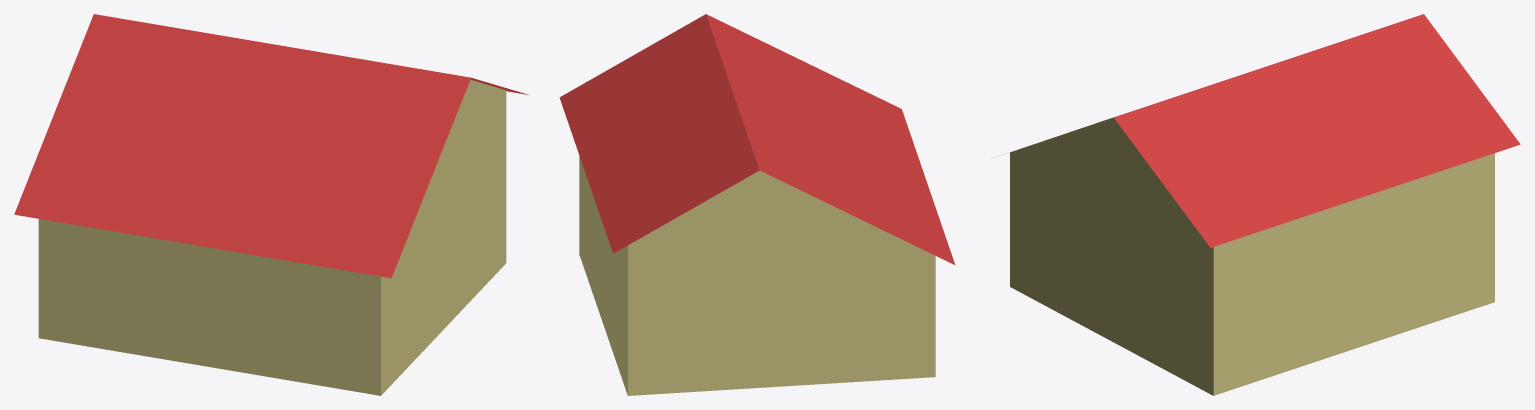
The picture shows the model from 3 angles, left to right: view 1: azimuth 30°, elevation 25°; view 2: azimuth 150°, elevation 25°; view 3: azimuth 270°, elevation 25°; orthographic projection. The views are drawn at different scales.
Bounding box in the file's own units: 21.68 × 21.88 × 10.69.
